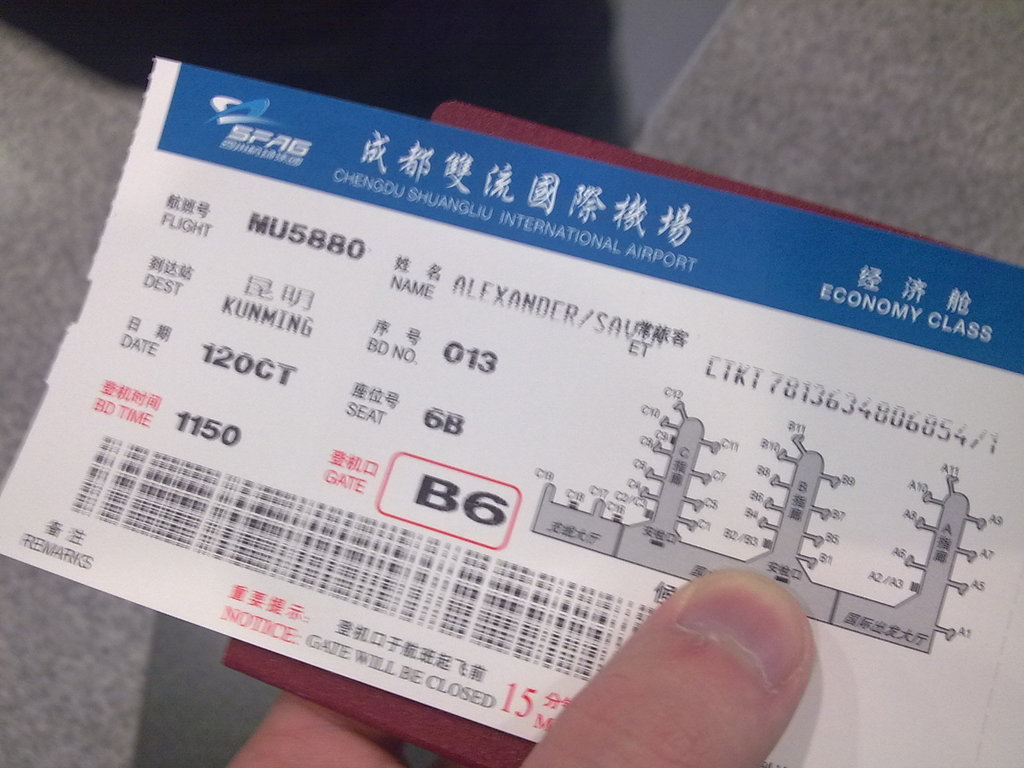Human_hand: (225, 569, 816, 768)
